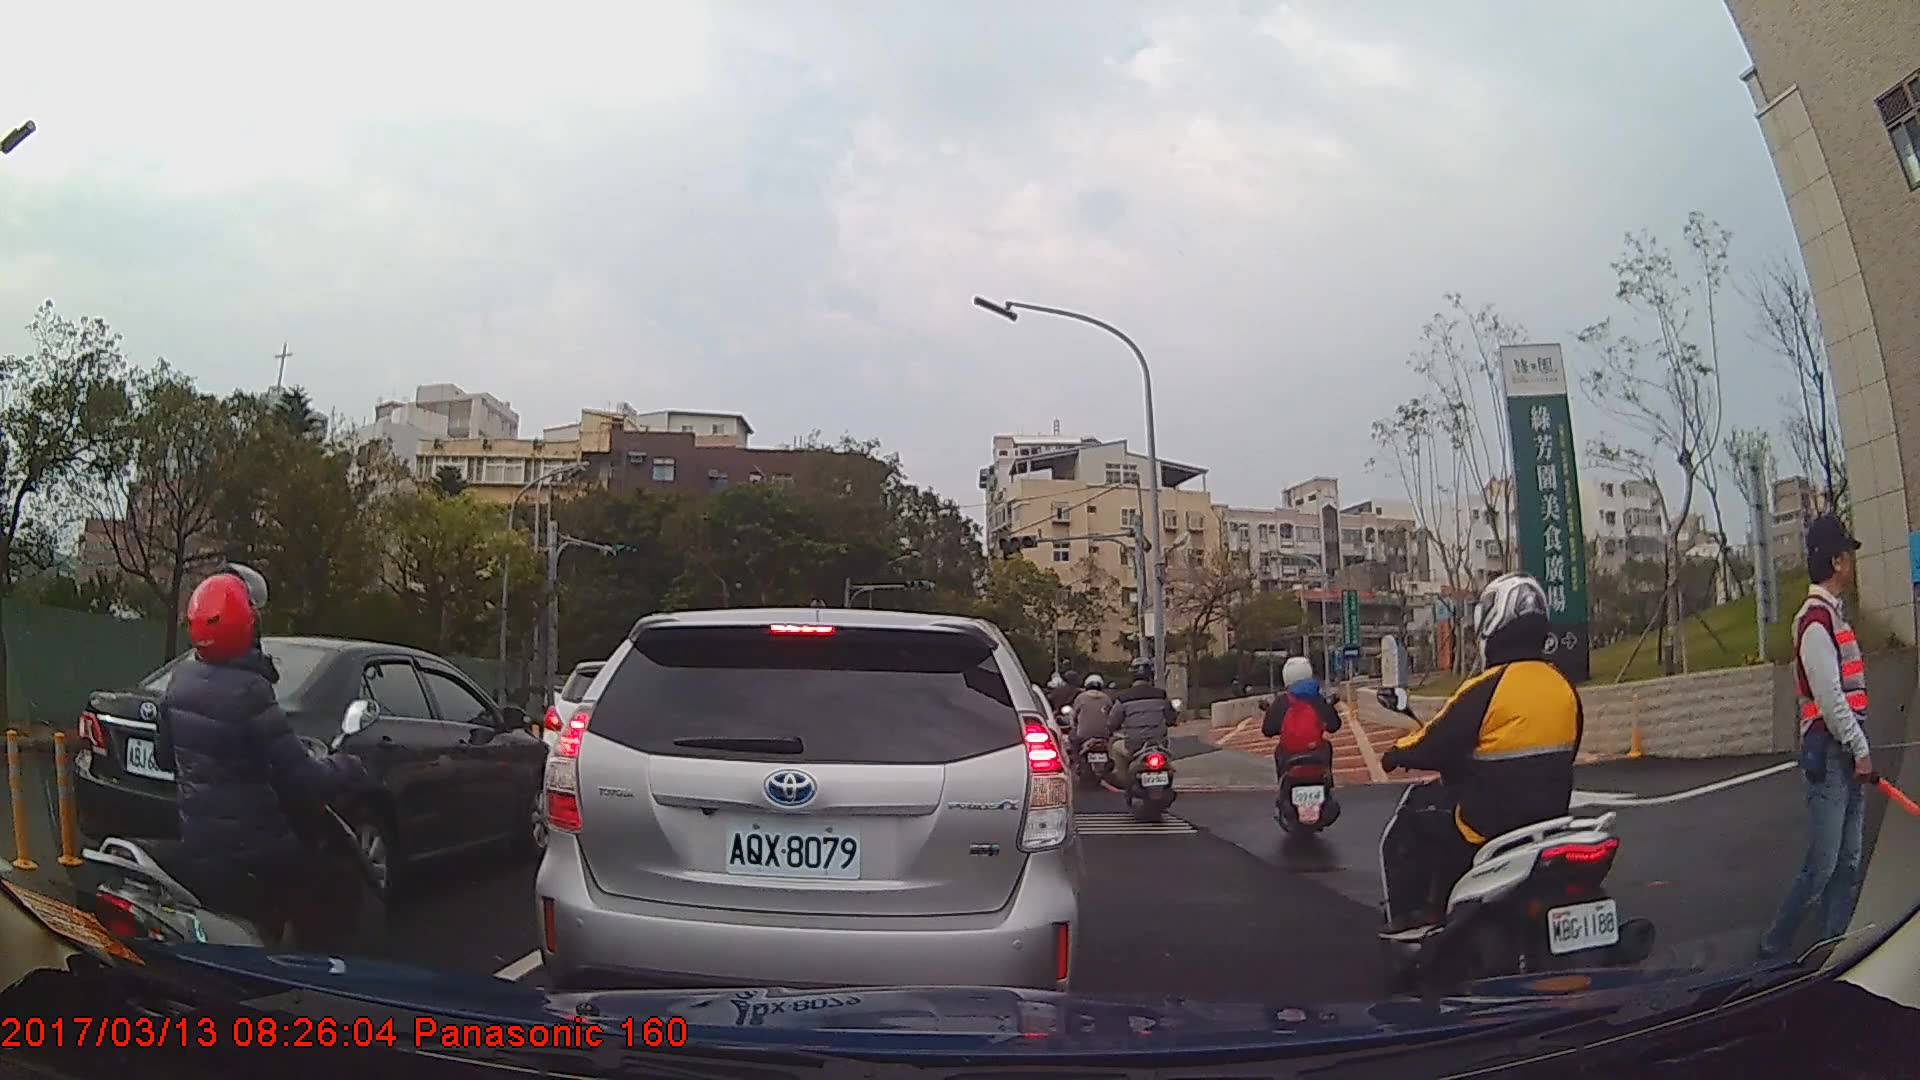pedestrian: (1758, 514, 1920, 973)
rider: (76, 560, 408, 1049), (1376, 570, 1668, 1013), (1265, 654, 1343, 842), (1110, 652, 1183, 828), (1075, 672, 1125, 790), (1052, 665, 1088, 764)
vehicle: (538, 605, 1087, 1020), (82, 635, 570, 917)
